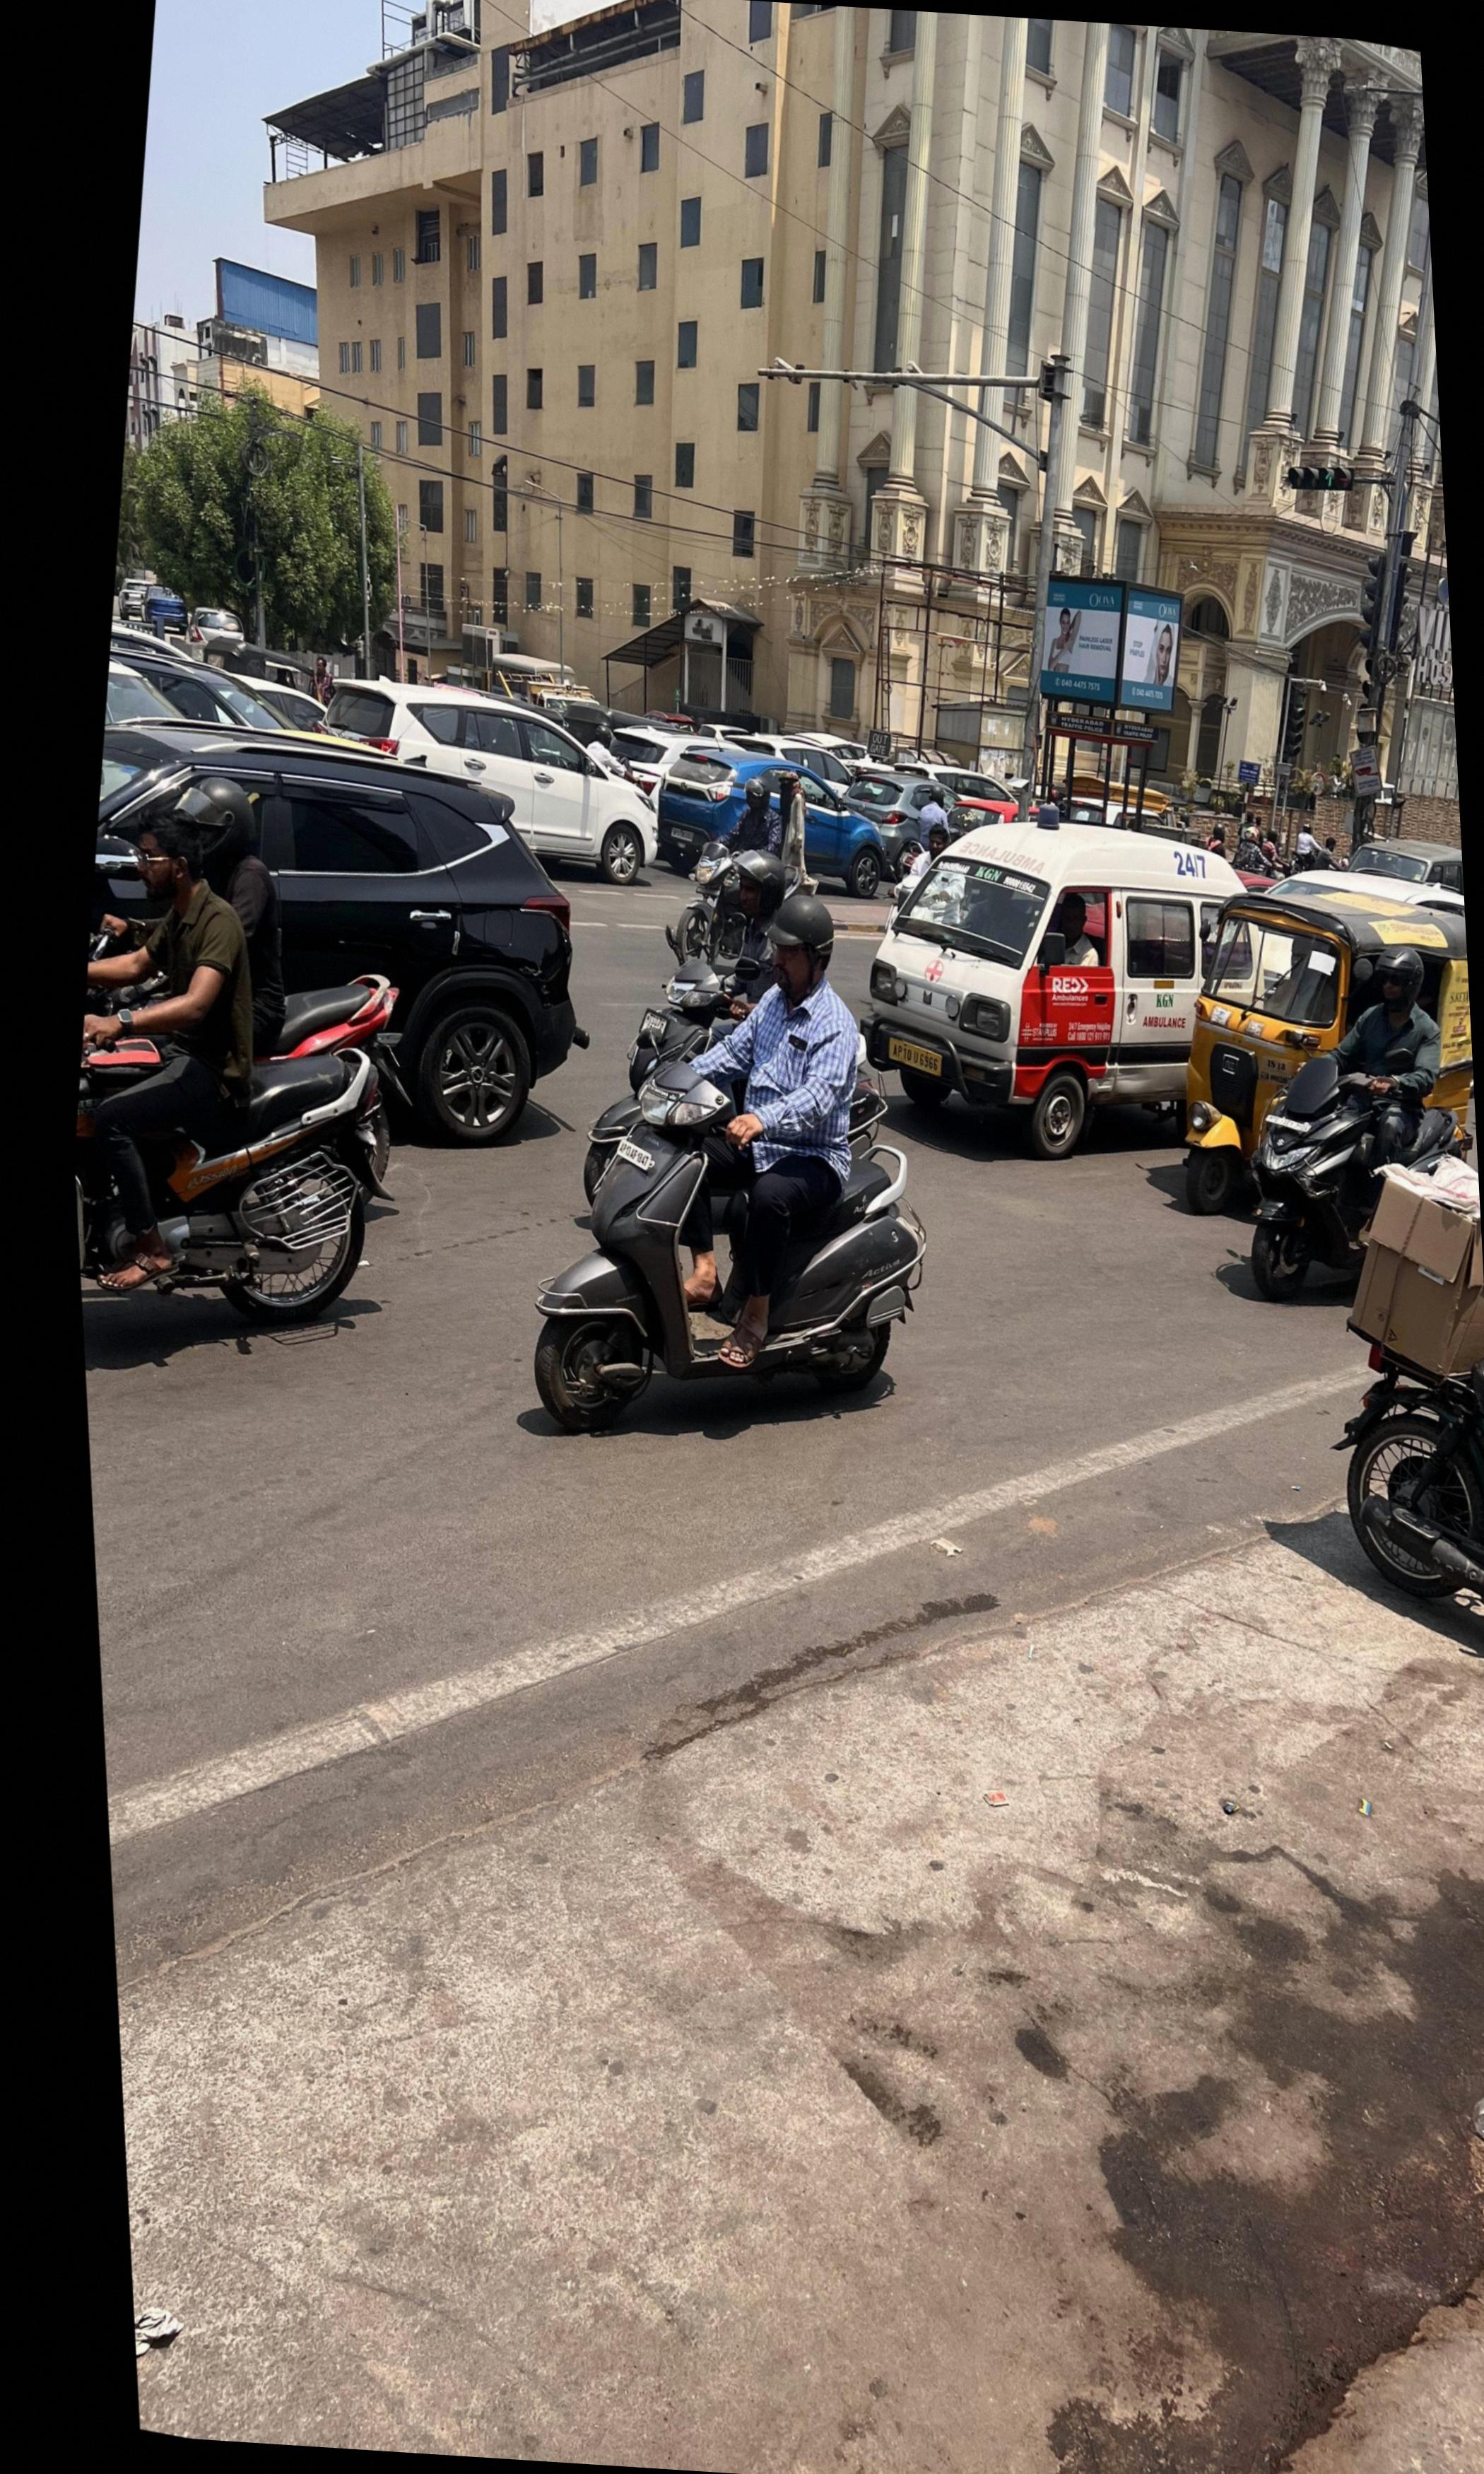ambulance: (869, 822, 1247, 1159)
